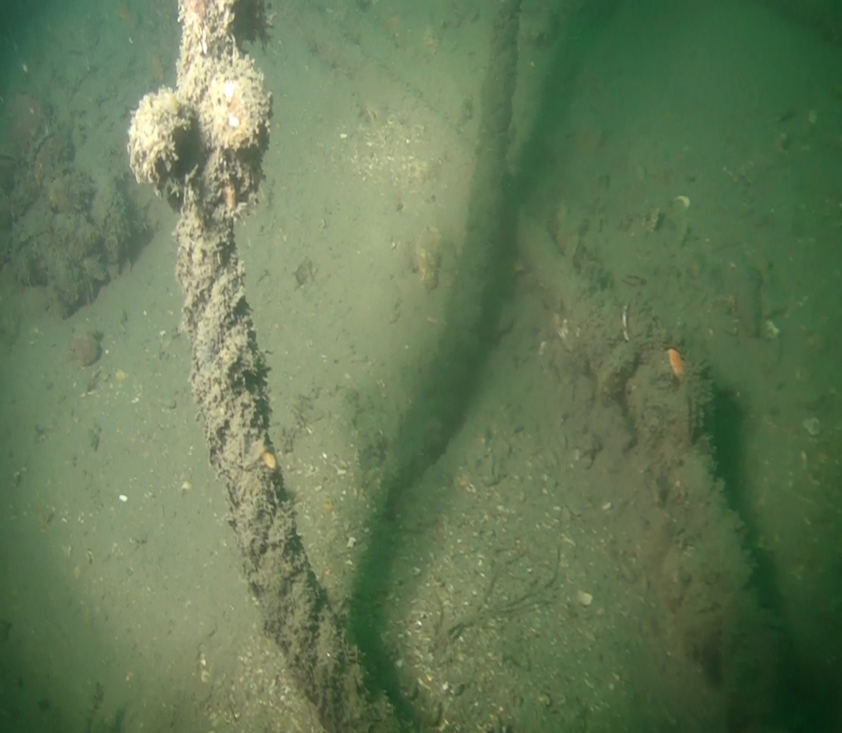rope: (124, 8, 422, 733), (343, 2, 523, 630)
